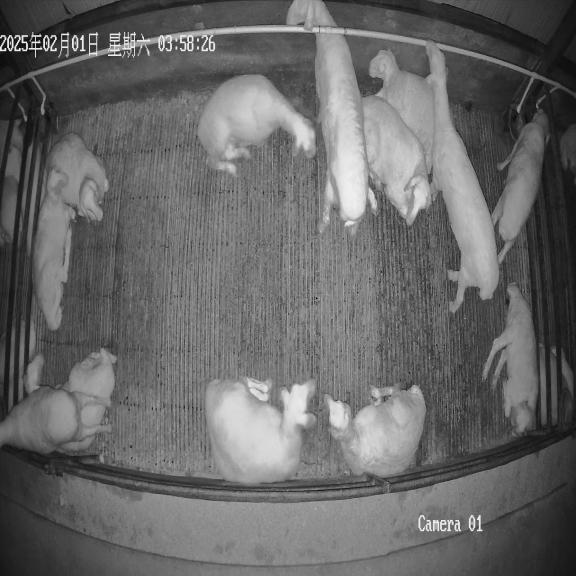lying: (198, 74, 316, 176), (205, 379, 316, 483), (19, 347, 117, 456), (324, 385, 426, 478), (362, 94, 432, 225), (482, 282, 538, 434), (369, 50, 434, 173), (33, 169, 76, 331), (45, 133, 108, 221)
stand: (426, 41, 499, 313), (287, 0, 371, 235), (491, 109, 549, 263), (0, 386, 80, 454)
